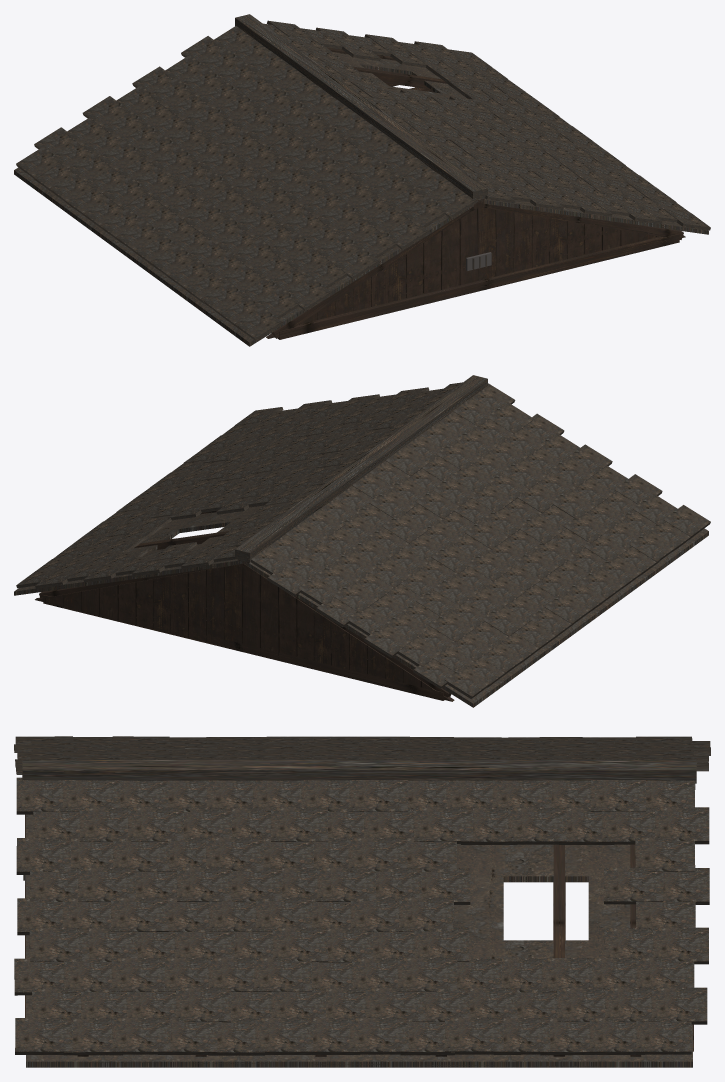
Rendered from blacksmith_roof_texture_optimized.glb.
The picture shows the model from 3 angles, top to bottom: view 1: azimuth 30°, elevation 25°; view 2: azimuth 150°, elevation 25°; view 3: azimuth 270°, elevation 25°; orthographic projection. The views are drawn at different scales.
Visible parts, largest first — view 1: ASSET_ROOF_Gable_FRONT, ASSET_ROOF_HeavySlateRidge, ASSET_ROOF_FRONT_GableLowerTie, ASSET_ROOF_LeftSlopingDeck, ASSET_ROOF_FRONT_GableOuterTimber_1, ASSET_ROOF_FRONT_GableOuterTimber_-1, ASSET_ROOF_RightSlopingDeck_1, ASSET_ROOF_HandsplitSlate_-1_08_00, ASSET_ROOF_HandsplitSlate_-1_01_00, ASSET_ROOF_RightSlopingDeck_0, ASSET_ROOF_HandsplitSlate_-1_06_00, ASSET_ROOF_HandsplitSlate_-1_08_07 (+87 smaller); view 2: ASSET_ROOF_Gable_REAR, ASSET_ROOF_HeavySlateRidge, ASSET_ROOF_LeftSlopingDeck, ASSET_ROOF_REAR_GableLowerTie, ASSET_ROOF_RightSlopingDeck_1, ASSET_ROOF_HandsplitSlate_-1_05_13, ASSET_ROOF_HandsplitSlate_-1_08_13, ASSET_ROOF_RightSlopingDeck_0, ASSET_ROOF_HandsplitSlate_-1_08_07, ASSET_ROOF_HandsplitSlate_-1_08_05, ASSET_ROOF_HandsplitSlate_-1_08_00, ASSET_ROOF_HandsplitSlate_-1_08_02 (+85 smaller); view 3: ASSET_ROOF_HeavySlateRidge, ASSET_ROOF_RightSlopingDeck_1, ASSET_ROOF_RightSlopingDeck_0, ASSET_ROOF_RightSlopingDeck_2, ASSET_ROOF_HandsplitSlate_1_01_10, ASSET_ROOF_HandsplitSlate_1_08_09, ASSET_ROOF_HandsplitSlate_1_08_07, ASSET_ROOF_HandsplitSlate_1_08_05, ASSET_ROOF_HandsplitSlate_1_08_02, ASSET_ROOF_HandsplitSlate_1_06_08, ASSET_ROOF_HandsplitSlate_1_01_08, ASSET_ROOF_HandsplitSlate_1_08_00 (+106 smaller).
Boxes of the visible parts, box(x1,y1,x2,y2) form: ASSET_ROOF_Gable_FRONT: box(266, 207, 685, 338); ASSET_ROOF_HeavySlateRidge: box(235, 14, 487, 199); ASSET_ROOF_FRONT_GableLowerTie: box(278, 234, 679, 339); ASSET_ROOF_LeftSlopingDeck: box(14, 167, 478, 346); ASSET_ROOF_FRONT_GableOuterTimber_1: box(483, 204, 683, 239); ASSET_ROOF_FRONT_GableOuterTimber_-1: box(271, 206, 475, 338); ASSET_ROOF_RightSlopingDeck_1: box(403, 65, 708, 234); ASSET_ROOF_HandsplitSlate_-1_08_00: box(234, 306, 282, 340); ASSET_ROOF_HandsplitSlate_-1_01_00: box(400, 196, 447, 227); ASSET_ROOF_RightSlopingDeck_0: box(333, 52, 558, 213); ASSET_ROOF_HandsplitSlate_-1_06_00: box(286, 276, 332, 310); ASSET_ROOF_HandsplitSlate_-1_08_07: box(115, 219, 163, 251); ASSET_ROOF_Gable_REAR: box(35, 563, 454, 701); ASSET_ROOF_HeavySlateRidge: box(235, 375, 487, 562); ASSET_ROOF_LeftSlopingDeck: box(243, 528, 708, 707); ASSET_ROOF_REAR_GableLowerTie: box(43, 595, 444, 700); ASSET_ROOF_RightSlopingDeck_1: box(14, 517, 195, 595); ASSET_ROOF_HandsplitSlate_-1_05_13: box(364, 623, 412, 657); ASSET_ROOF_HandsplitSlate_-1_08_13: box(445, 665, 491, 698); ASSET_ROOF_RightSlopingDeck_0: box(164, 505, 263, 574); ASSET_ROOF_HandsplitSlate_-1_08_07: box(544, 591, 592, 625); ASSET_ROOF_HandsplitSlate_-1_08_05: box(579, 567, 626, 600); ASSET_ROOF_HandsplitSlate_-1_08_00: box(663, 505, 710, 538); ASSET_ROOF_HandsplitSlate_-1_08_02: box(629, 530, 676, 561); ASSET_ROOF_HeavySlateRidge: box(22, 760, 696, 783); ASSET_ROOF_RightSlopingDeck_1: box(26, 940, 692, 1067); ASSET_ROOF_RightSlopingDeck_0: box(26, 814, 630, 882); ASSET_ROOF_RightSlopingDeck_2: box(26, 876, 503, 940); ASSET_ROOF_HandsplitSlate_1_01_10: box(508, 807, 566, 844); ASSET_ROOF_HandsplitSlate_1_08_09: box(445, 1017, 503, 1054); ASSET_ROOF_HandsplitSlate_1_08_07: box(349, 1018, 408, 1054); ASSET_ROOF_HandsplitSlate_1_08_05: box(255, 1018, 313, 1054); ASSET_ROOF_HandsplitSlate_1_08_02: box(112, 1018, 170, 1054); ASSET_ROOF_HandsplitSlate_1_06_08: box(397, 957, 457, 991); ASSET_ROOF_HandsplitSlate_1_01_08: box(413, 807, 473, 843); ASSET_ROOF_HandsplitSlate_1_08_00: box(15, 1018, 72, 1054).
Bounding box in the file's own units: 8.65 × 1.87 × 8.03.
Materials: 6 (5 with a texture image).
